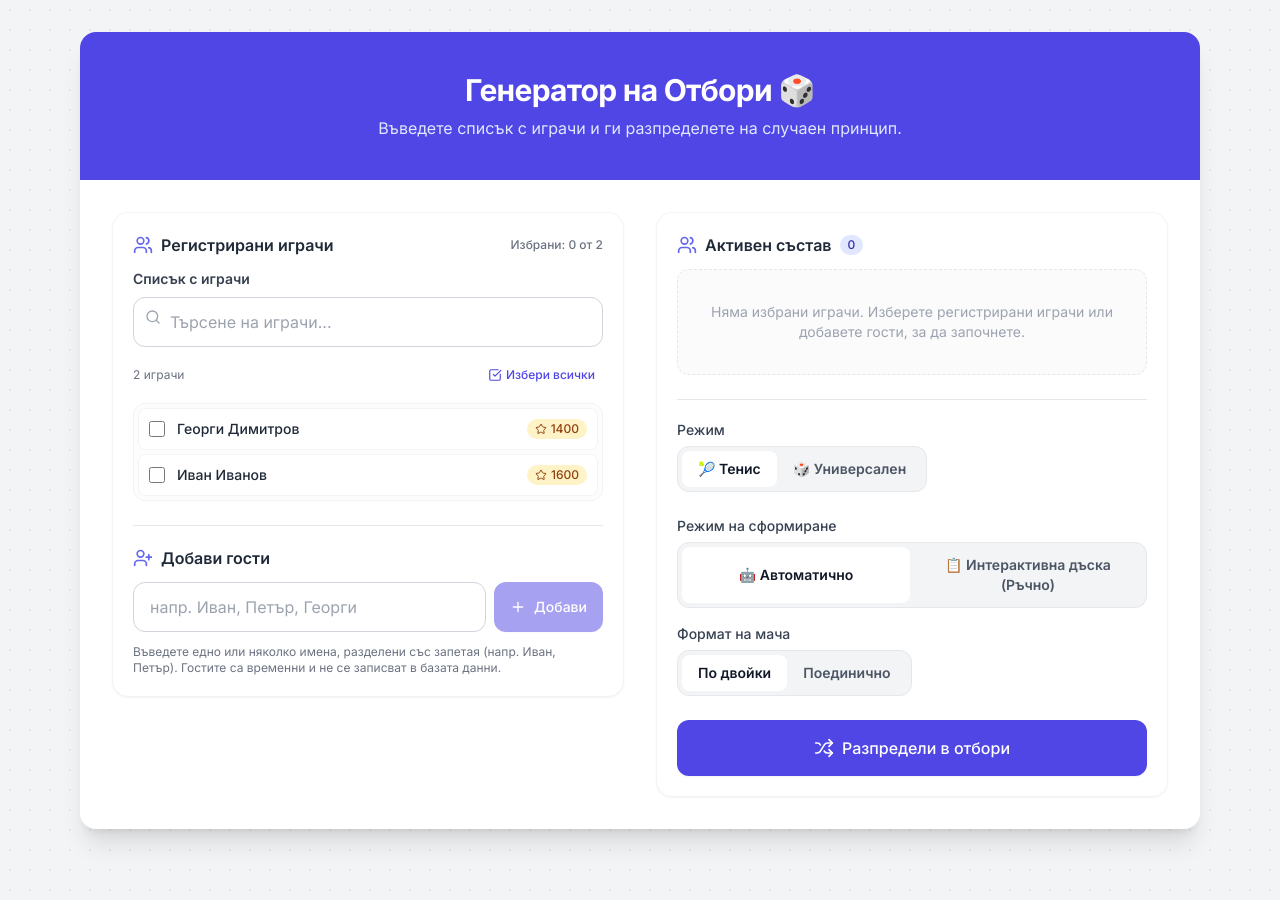
Test: GeneratorPage Integration Tests › removes players from active pool when clicking the remove button
The width and height of the screenshot is (1280, 900).
In the field with placeholder "напр. Иван, Петър, Георги": (310, 607) [133,582,486,632], type "Никола"
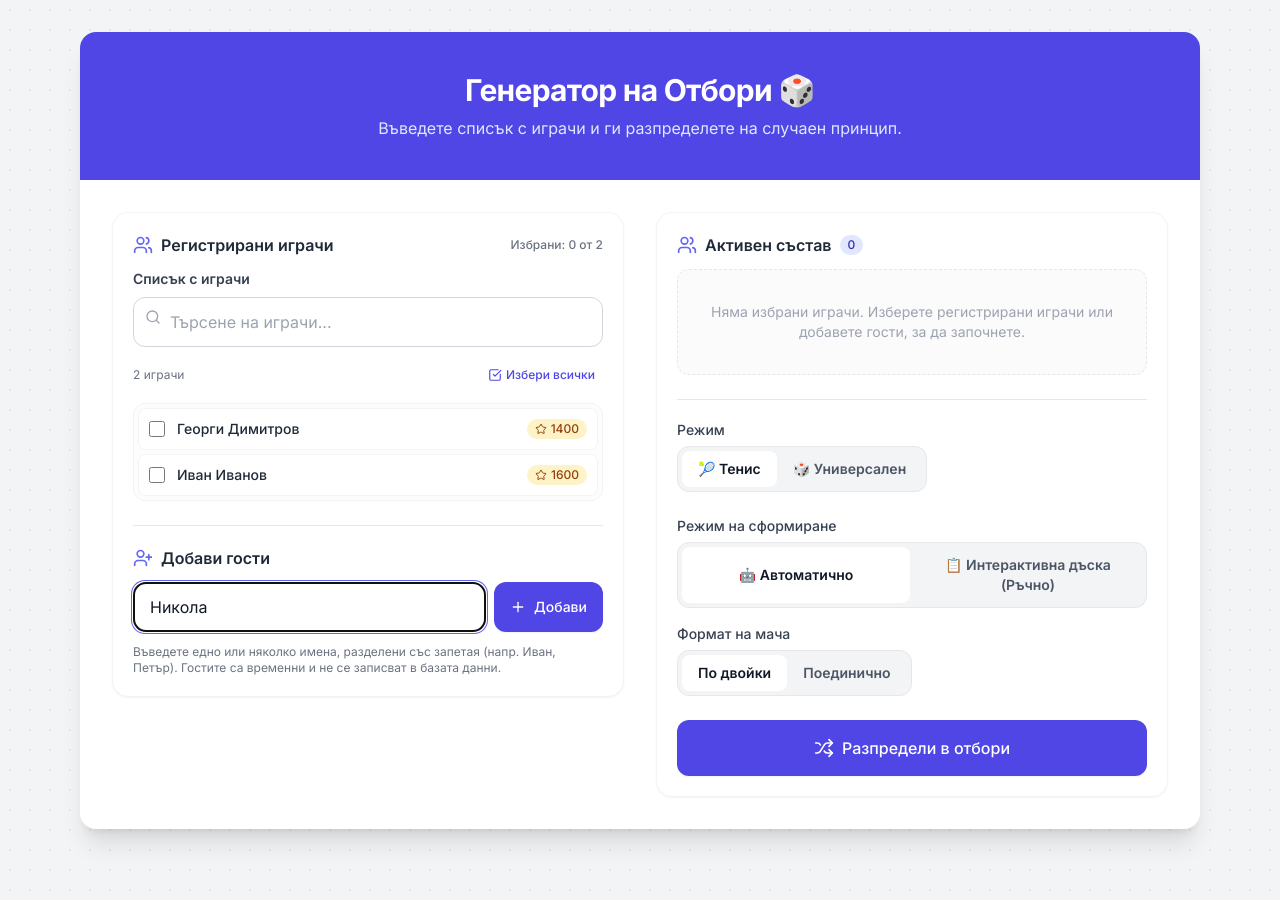
Click the button "Добави": (549, 607) [494,582,603,632]
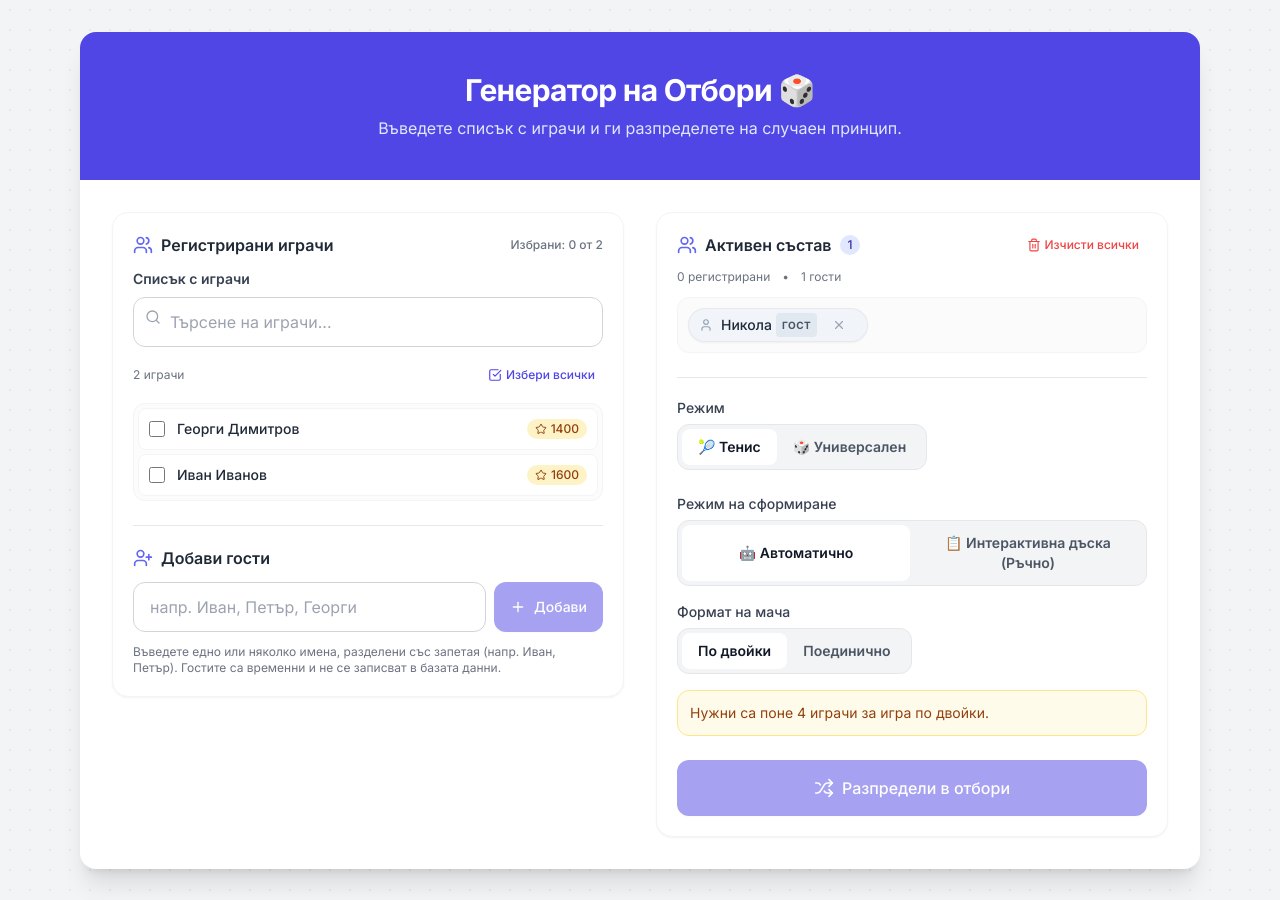
Result: the text "Никола" is shown at [721,315,772,335]
Click the button named "Премахни Никола": (839, 325) [821,307,857,343]
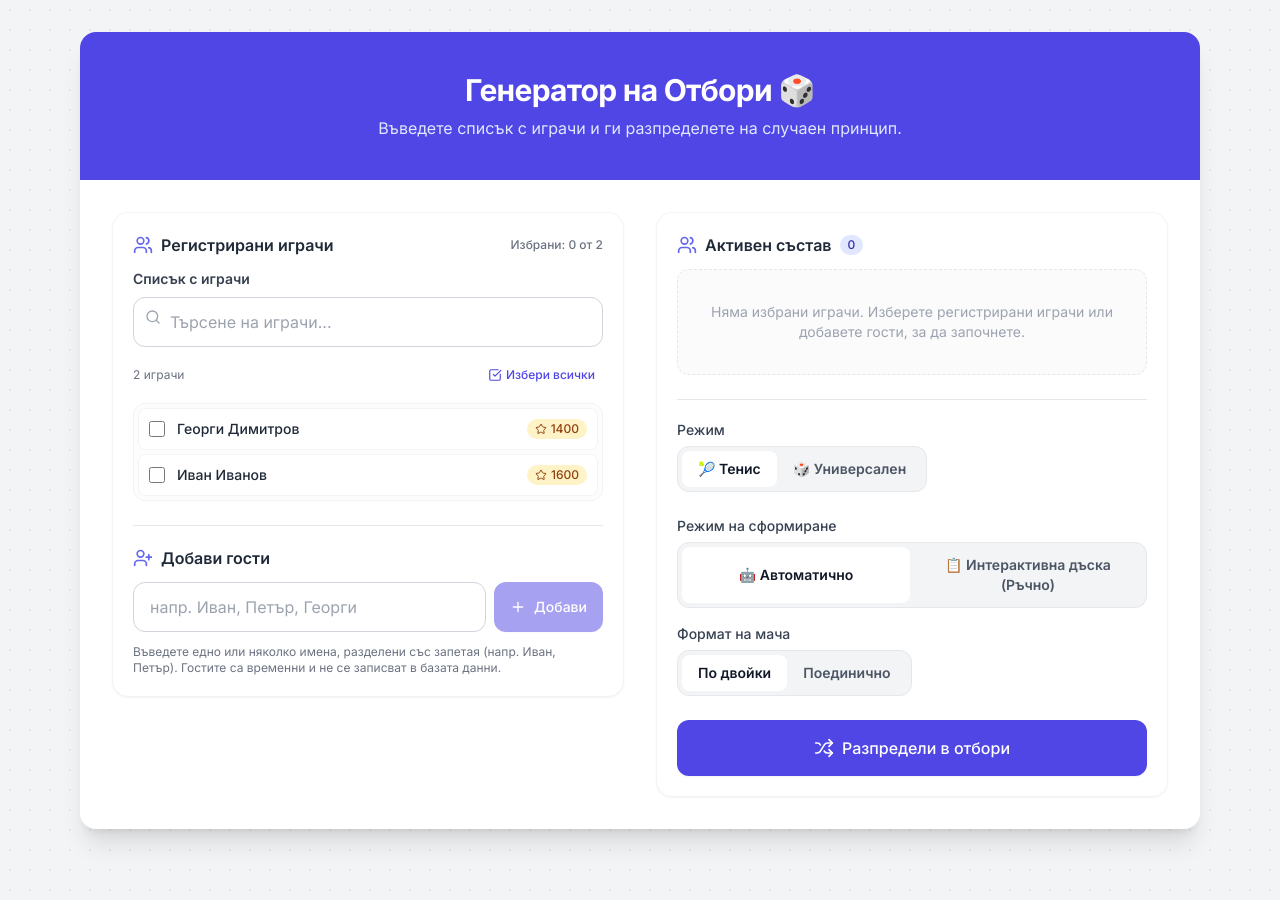
Result: the text "Никола" is gone
